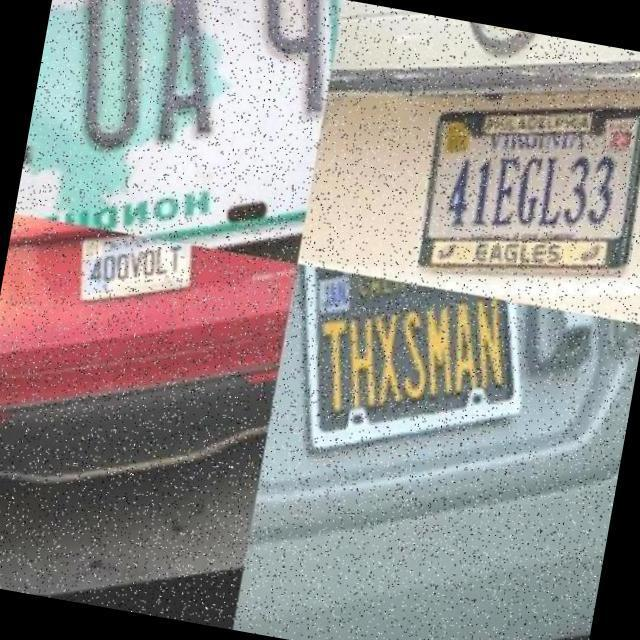License Plate: (14, 0, 344, 264), (264, 264, 564, 500), (422, 116, 640, 275), (85, 237, 196, 309)
